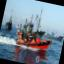fishing boat: (11, 12, 57, 55), (3, 8, 18, 34), (43, 24, 64, 42)
